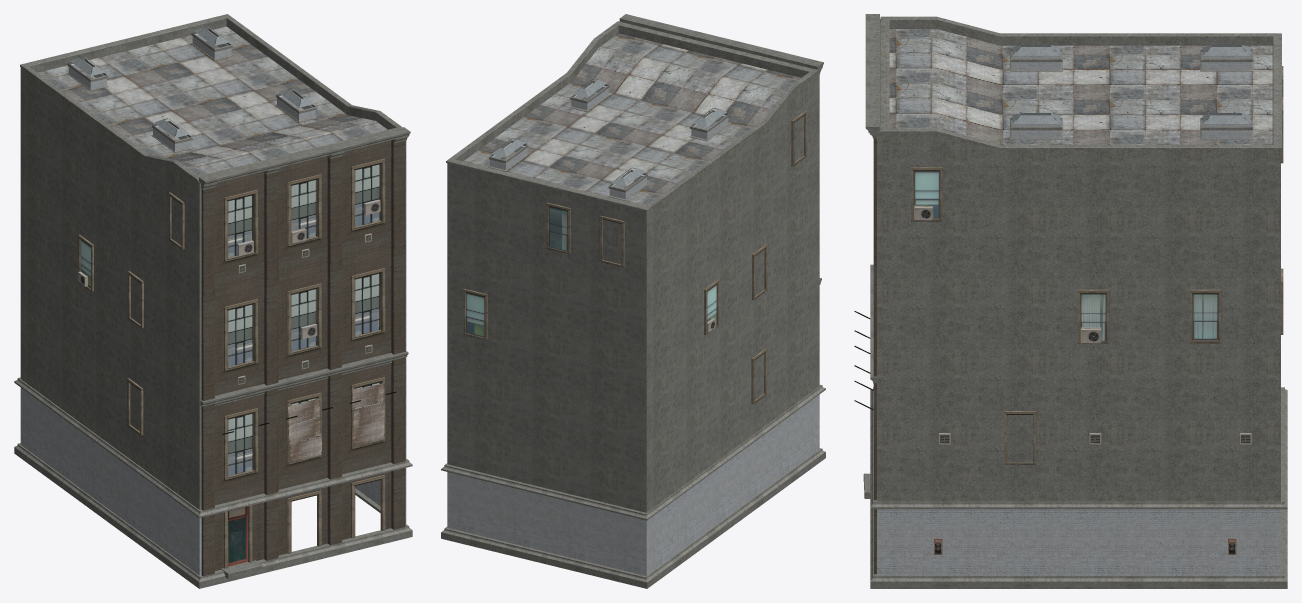
The model's file is u2NEBuild3.gltf.
3 views of the same model, side by side, from view 1: azimuth 30°, elevation 25°; view 2: azimuth 150°, elevation 25°; view 3: azimuth 270°, elevation 25° (orthographic). The views are drawn at different scales.
Parts seen in each view (by area): view 1: u2NEBuild3; view 2: u2NEBuild3; view 3: u2NEBuild3.
Part boxes in pixels (x1,y1,x2,y2): u2NEBuild3: (14,14,412,588); u2NEBuild3: (441,14,825,588); u2NEBuild3: (854,14,1287,588).
Size of the model in its own units: 4.63 by 8.4 by 7.18.
11 materials, 11 textured.
